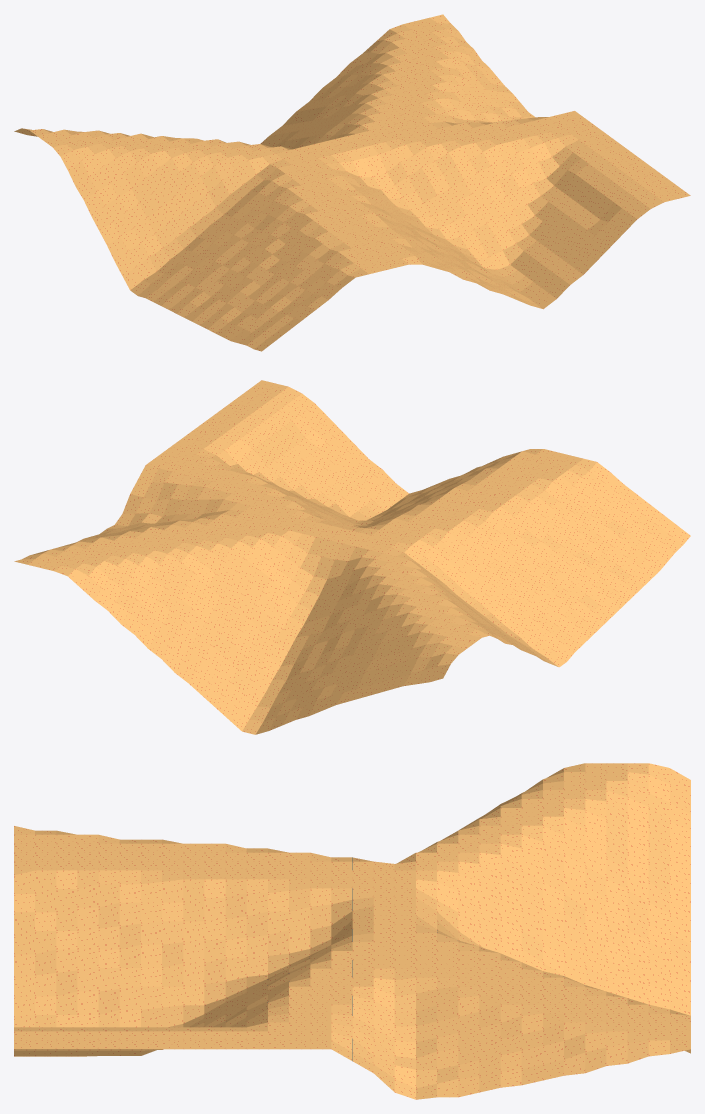
Rendered from map_chunked_051.gltf.
The picture shows the model from 3 angles, top to bottom: view 1: azimuth 30°, elevation 25°; view 2: azimuth 150°, elevation 25°; view 3: azimuth 270°, elevation 25°; orthographic projection. The views are drawn at different scales.
Visible parts, largest first — view 1: map_chunked.051; view 2: map_chunked.051; view 3: map_chunked.051.
Part boxes in pixels (box(x1,y1,x2,y2)): map_chunked.051: box(14, 14, 690, 351); map_chunked.051: box(14, 380, 690, 734); map_chunked.051: box(14, 763, 690, 1099).
Bounding box in the file's own units: 32 × 8.16 × 32.
Materials: 1 (1 with a texture image).
